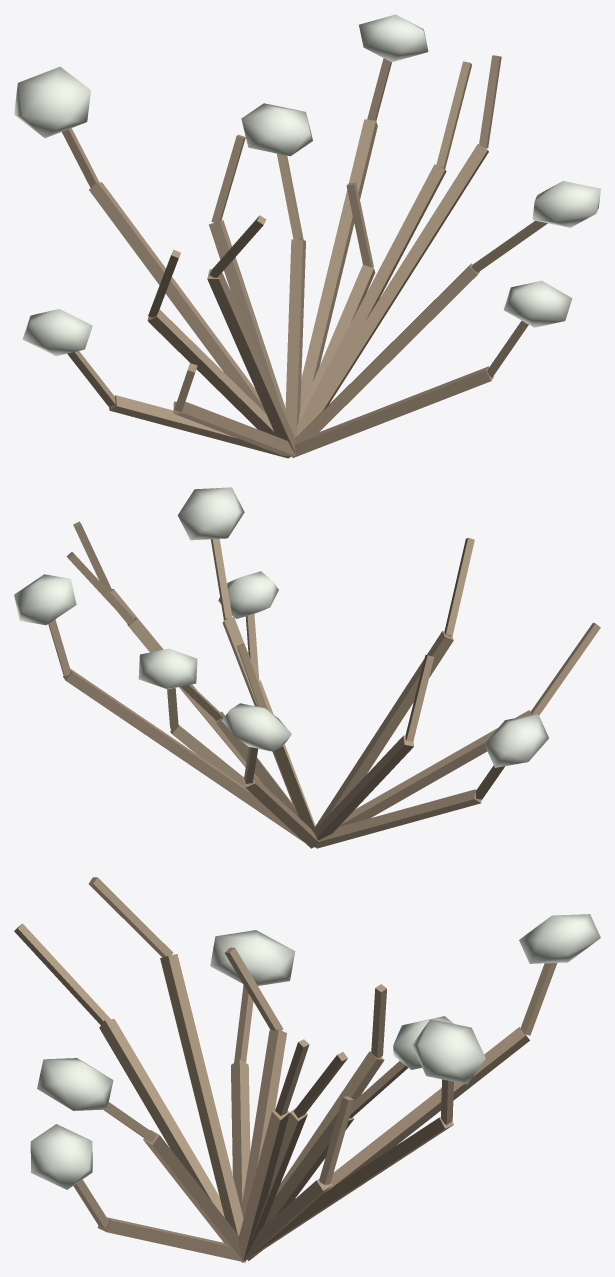
File: shrub_dry.glb
3 renders of one model, top to bottom at view 1: azimuth 30°, elevation 25°; view 2: azimuth 150°, elevation 25°; view 3: azimuth 270°, elevation 25°, orthographic. The views are drawn at different scales.
Visible parts, largest first — view 1: shrub_dry; view 2: shrub_dry; view 3: shrub_dry.
Part boxes in pixels (<box>): shrub_dry: <box>14,14,600,458</box>; shrub_dry: <box>14,487,600,848</box>; shrub_dry: <box>14,877,600,1262</box>.
Size of the model in its own units: 0.997 by 0.6268 by 0.9813.
